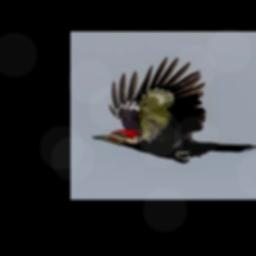Woodpecker: (89, 56, 255, 163)
